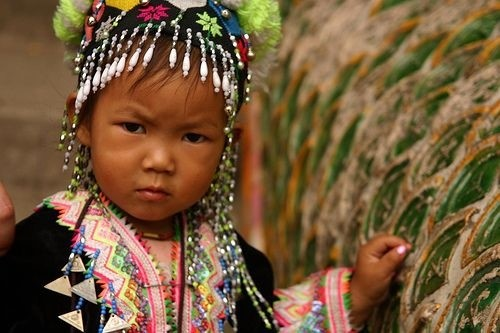face_no_mask: (86, 26, 231, 217)
